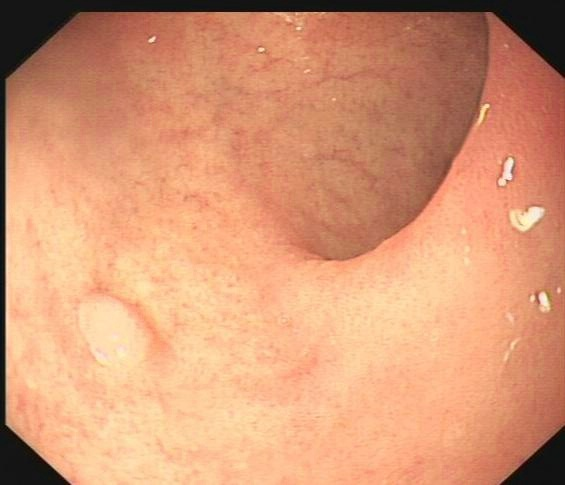Polyp: (72, 290, 158, 372)
